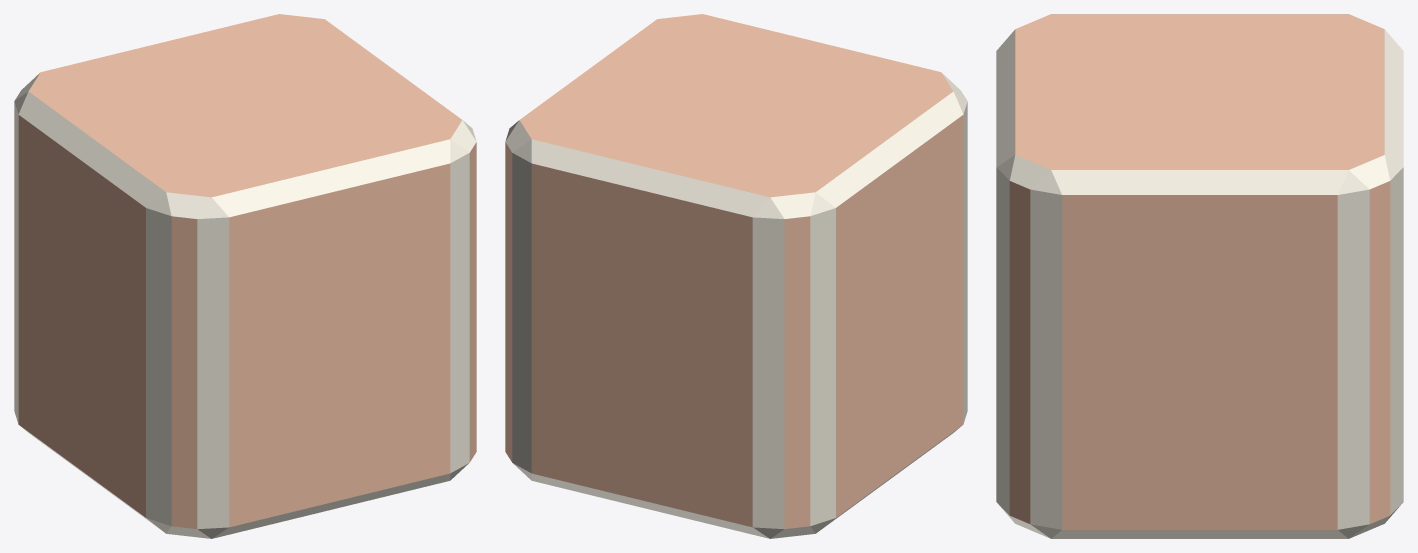
File: R4B_OctColumn_LOD1.fbx
3 renders of one model, left to right at view 1: azimuth 30°, elevation 25°; view 2: azimuth 150°, elevation 25°; view 3: azimuth 270°, elevation 25°, orthographic. The views are drawn at different scales.
Visible parts, largest first — view 1: R4B_OctColumn_LOD1; view 2: R4B_OctColumn_LOD1; view 3: R4B_OctColumn_LOD1.
Boxes of the visible parts, x1=… form: R4B_OctColumn_LOD1: x1=14, y1=14, x2=476, y2=538; R4B_OctColumn_LOD1: x1=505, y1=14, x2=967, y2=538; R4B_OctColumn_LOD1: x1=996, y1=14, x2=1403, y2=538.
Bounding box in the file's own units: 0.52 × 0.52 × 0.52.
